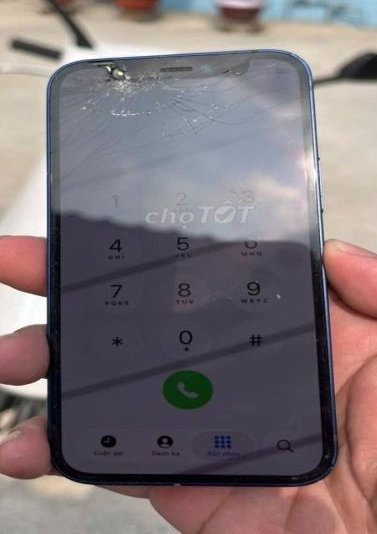physical_damage: (55, 48, 277, 145)
